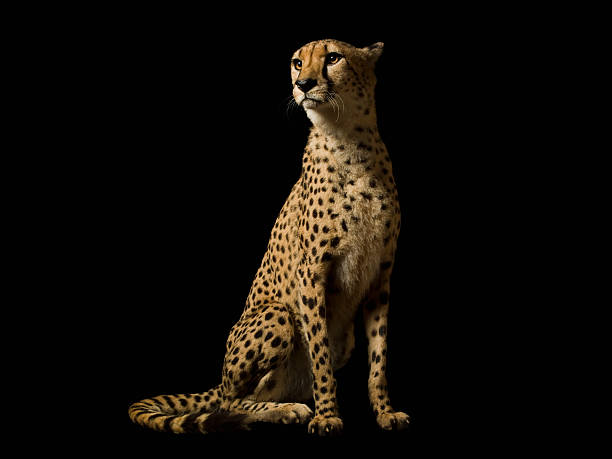cheetah: (274, 27, 395, 132)
